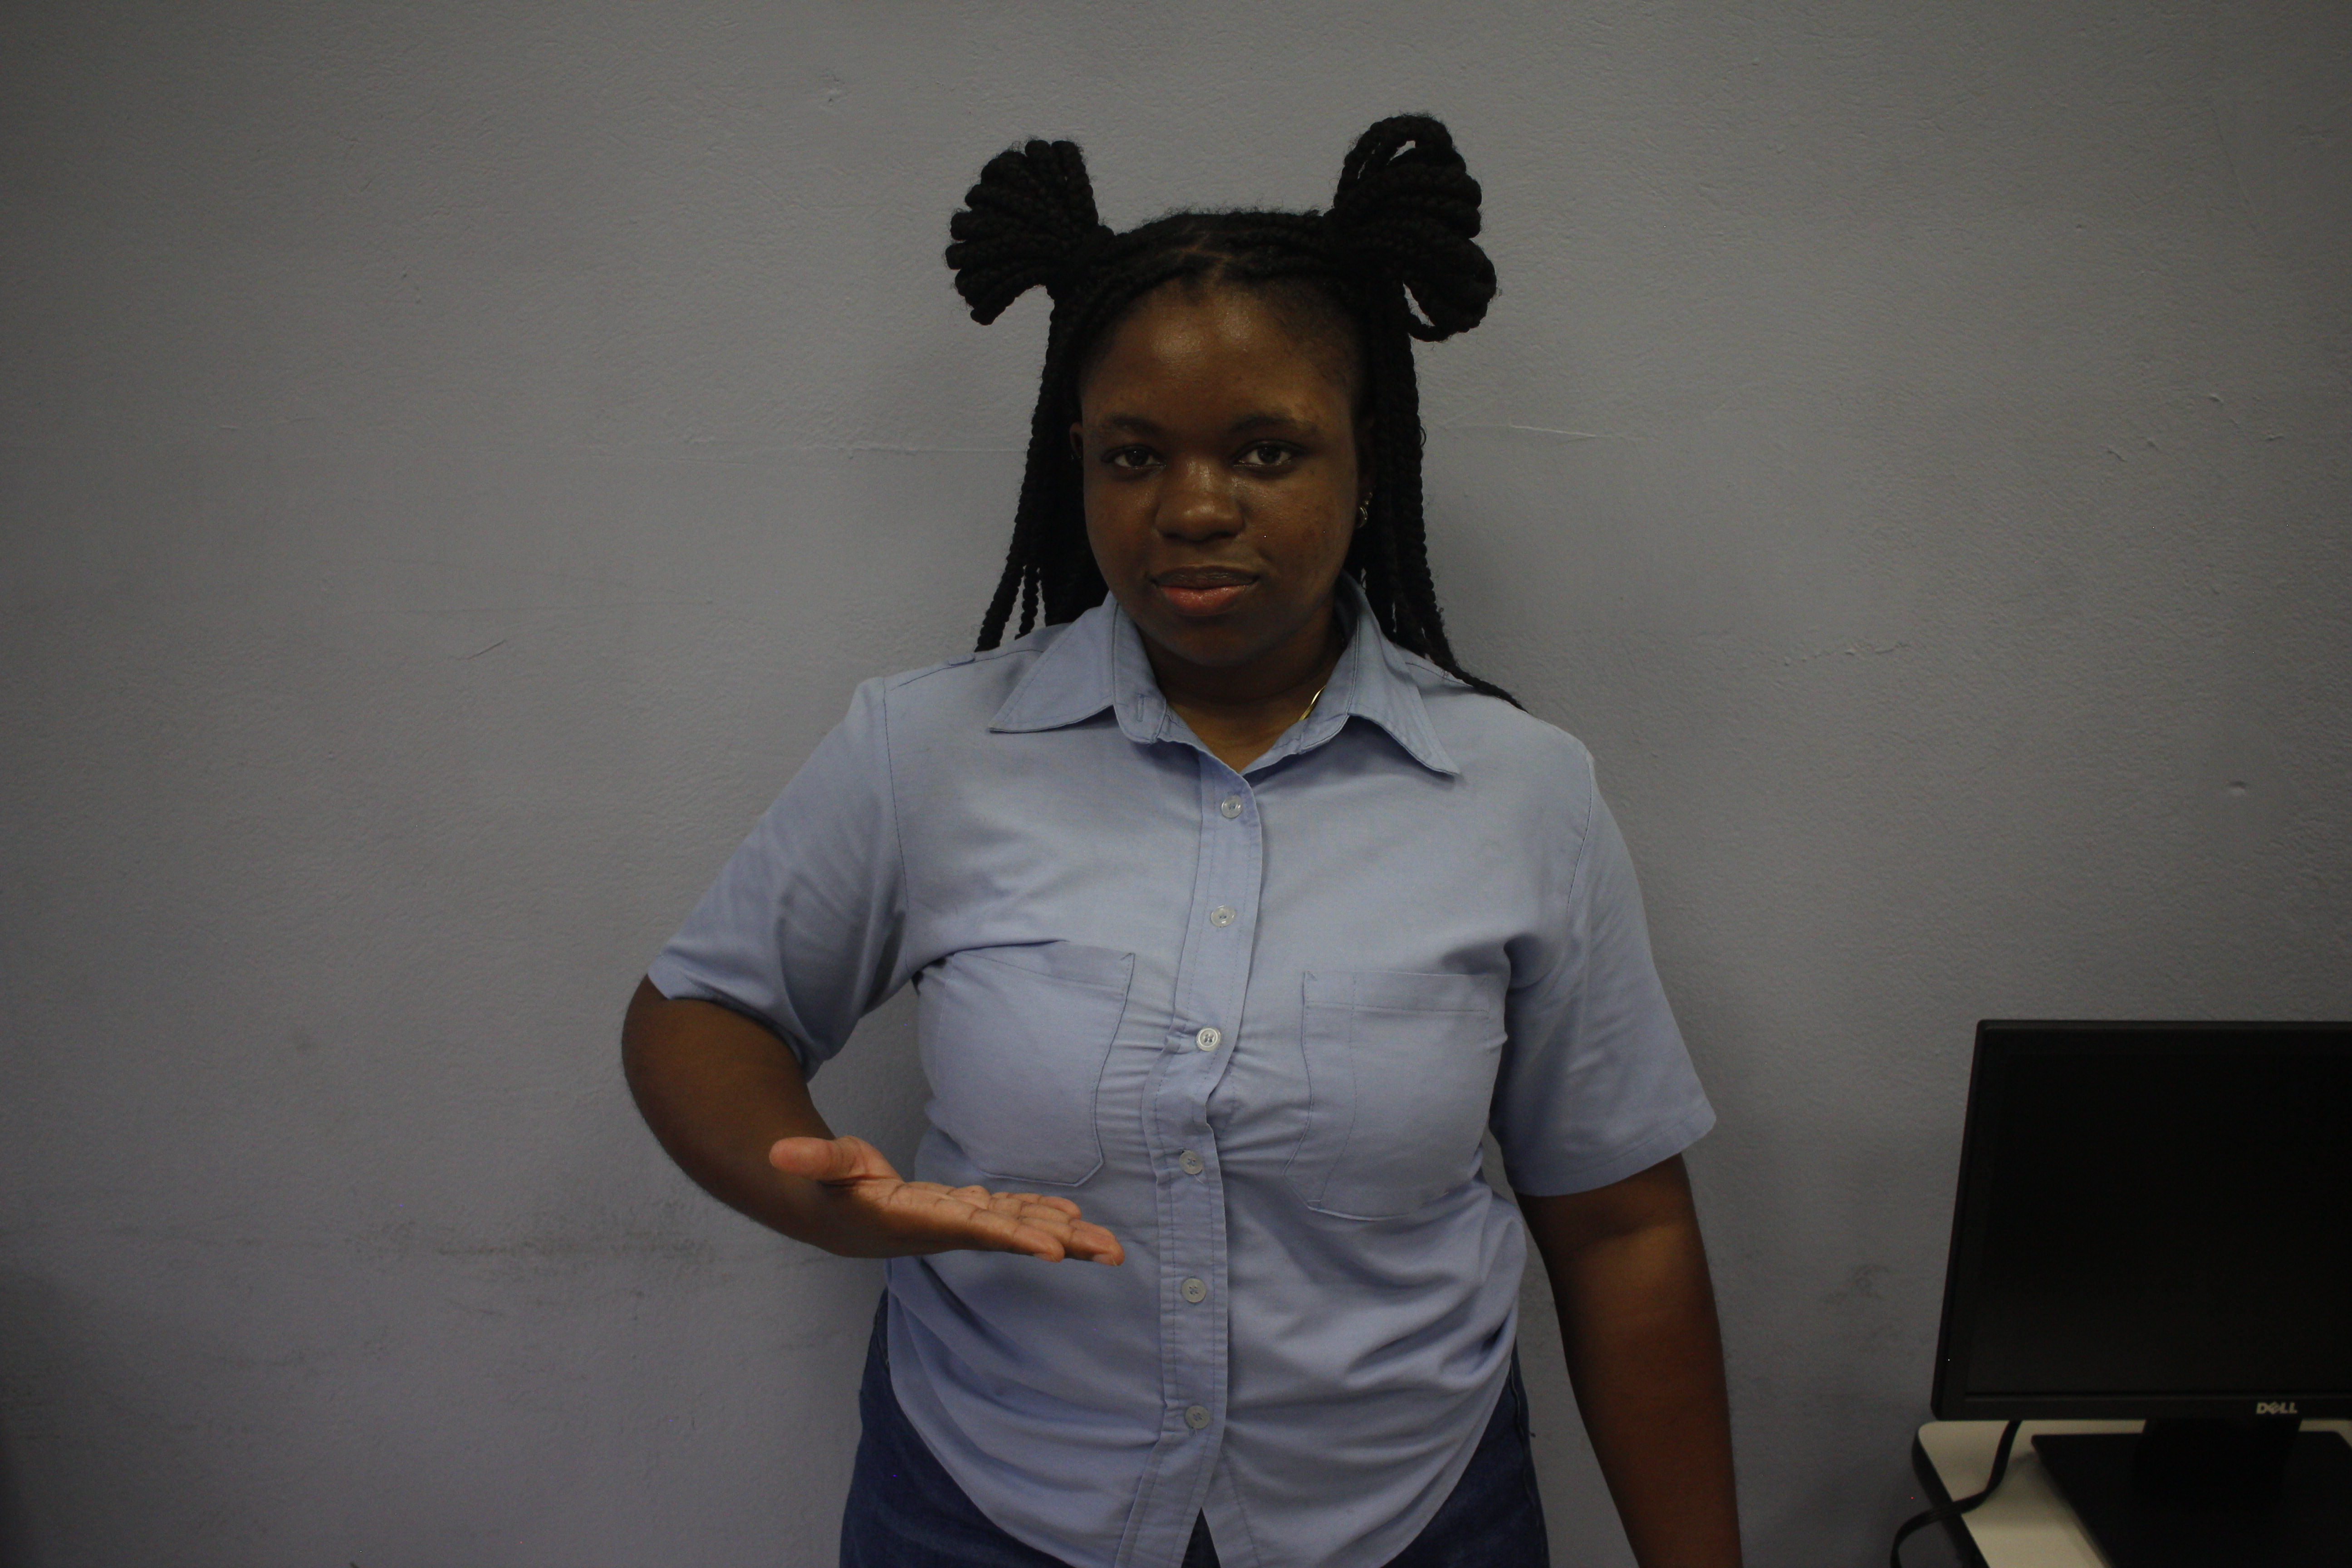you are welcome: (761, 1118, 1134, 1279)
